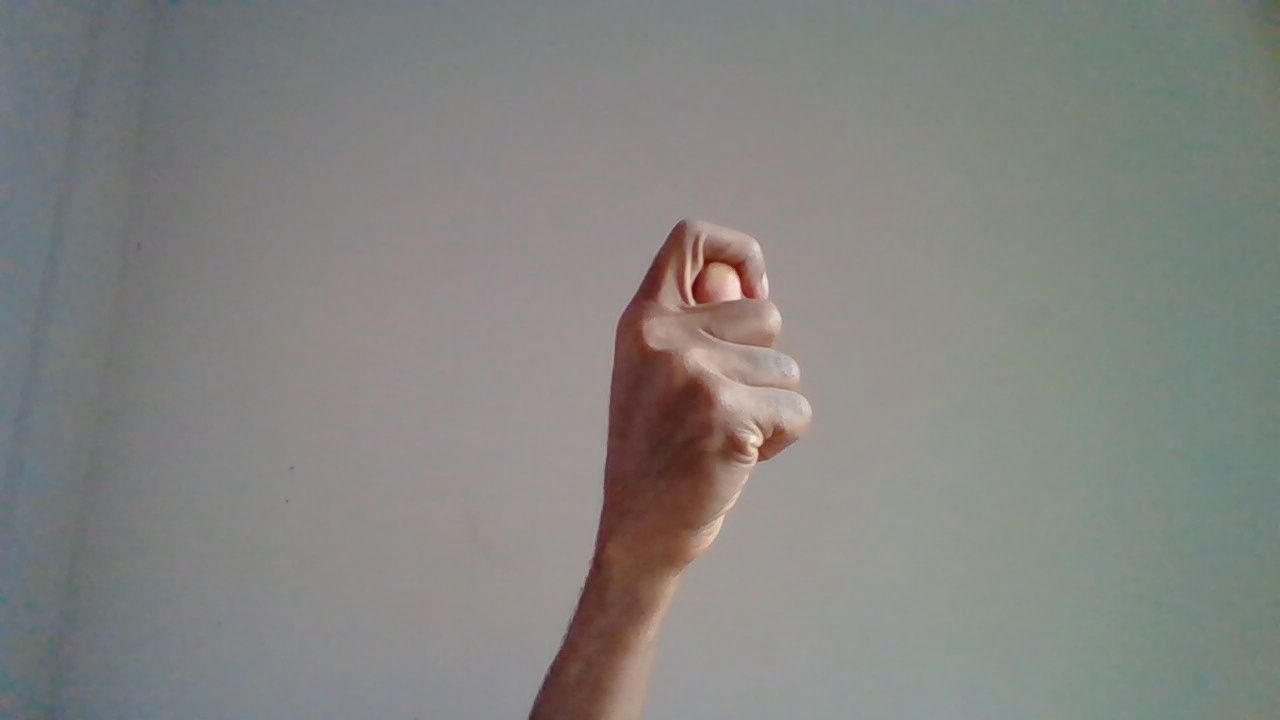che: (579, 207, 823, 667)
